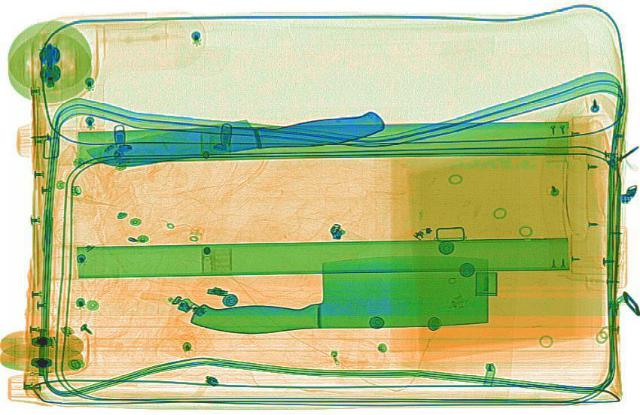Knife: (183, 251, 493, 333), (82, 102, 388, 171)
